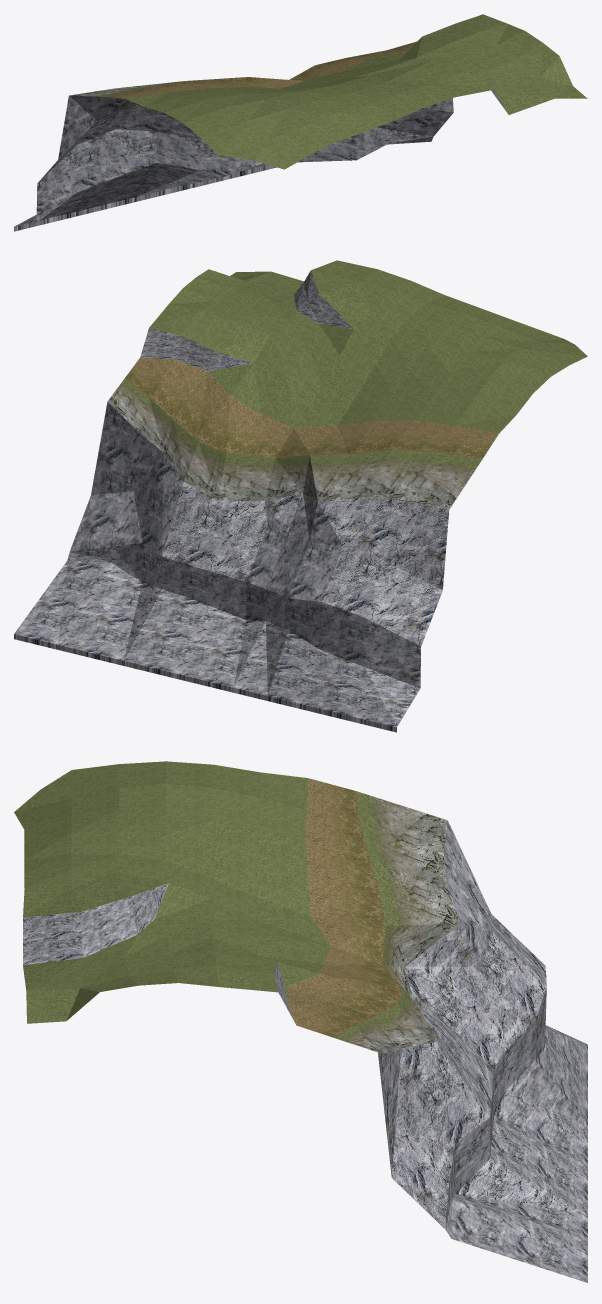
File: ne_bit_23.obj
The picture shows the model from 3 angles, top to bottom: view 1: azimuth 30°, elevation 25°; view 2: azimuth 150°, elevation 25°; view 3: azimuth 270°, elevation 25°; orthographic projection. The views are drawn at different scales.
Parts seen in each view (by area): view 1: ne_bit_23; view 2: ne_bit_23; view 3: ne_bit_23.
Part boxes in pixels (x1,y1,x2,y2): ne_bit_23: (14, 14, 587, 231); ne_bit_23: (14, 260, 587, 732); ne_bit_23: (14, 761, 587, 1282).
Bounding box in the file's own units: 254 × 157 × 258.
6 materials, 6 textured.
